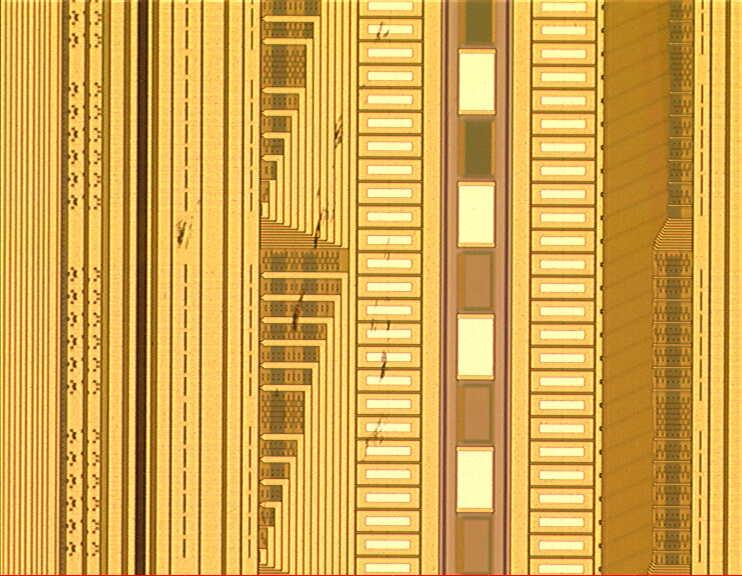SCRATCH: (162, 7, 402, 476)
